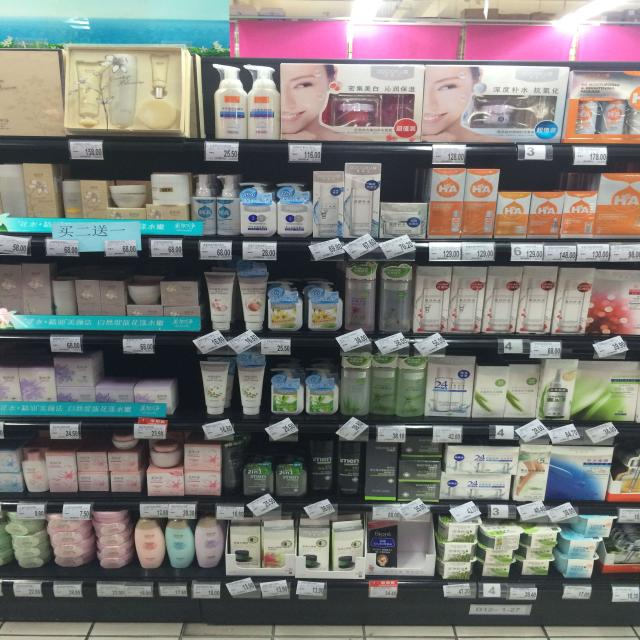empty: (395, 505, 446, 584), (165, 349, 203, 427)
